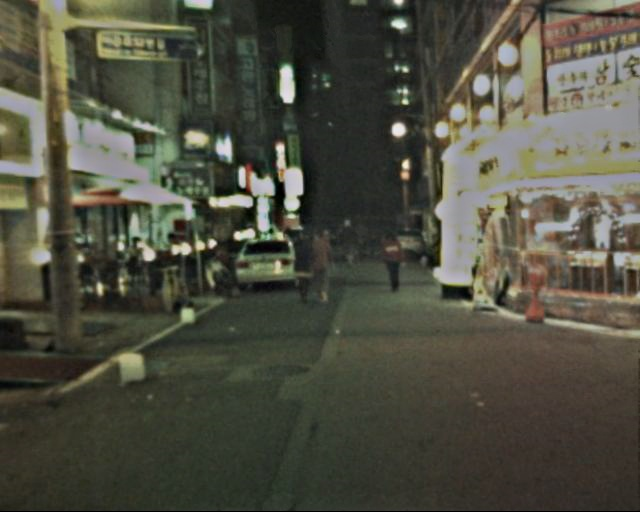person: (309, 225, 342, 310), (289, 226, 322, 309), (382, 226, 413, 298), (338, 217, 359, 267), (358, 224, 380, 261)
